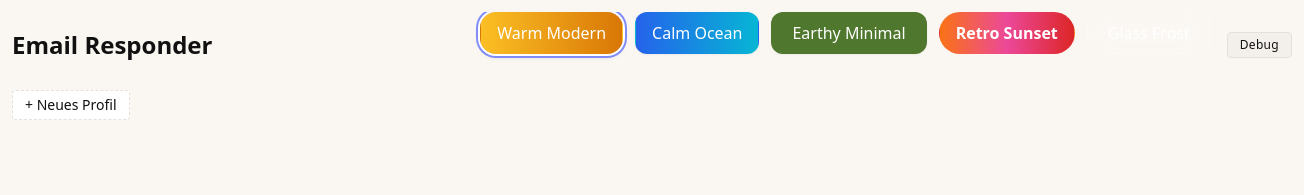
Test: Debug Mode › toggles debug state and shows banner
The width and height of the screenshot is (1304, 195).
expect the text "DEBUG MODE" is not shown: met
Step 1. Click the button with test id "debug-toggle" → (1259,45), box left=1227, top=32, right=1292, bottom=58
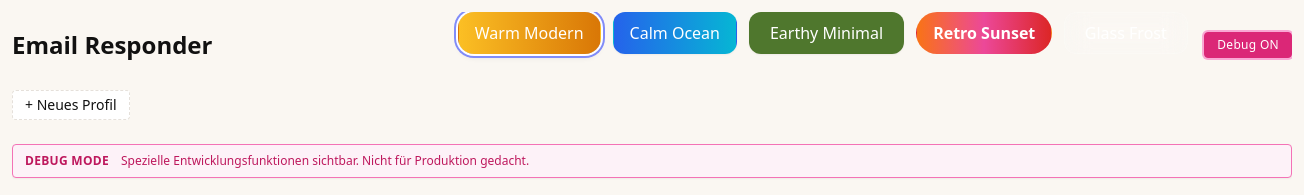
expect the text "DEBUG MODE" is shown: met, box left=25, top=153, right=109, bottom=169
